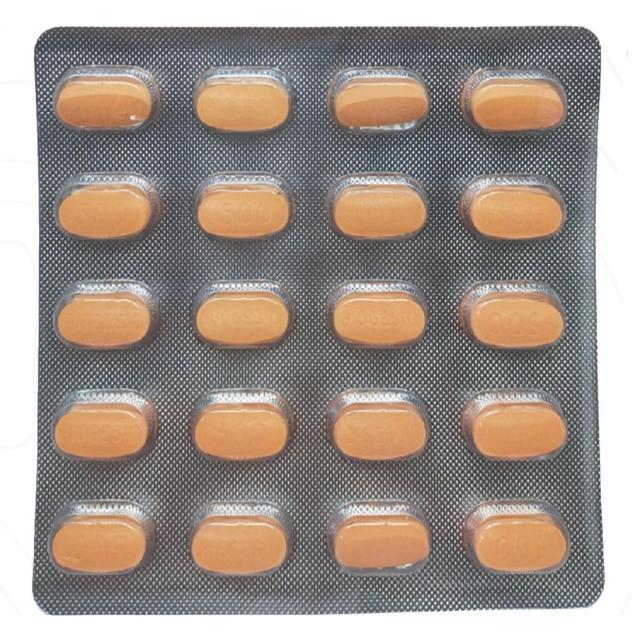blister: (29, 18, 610, 617)
